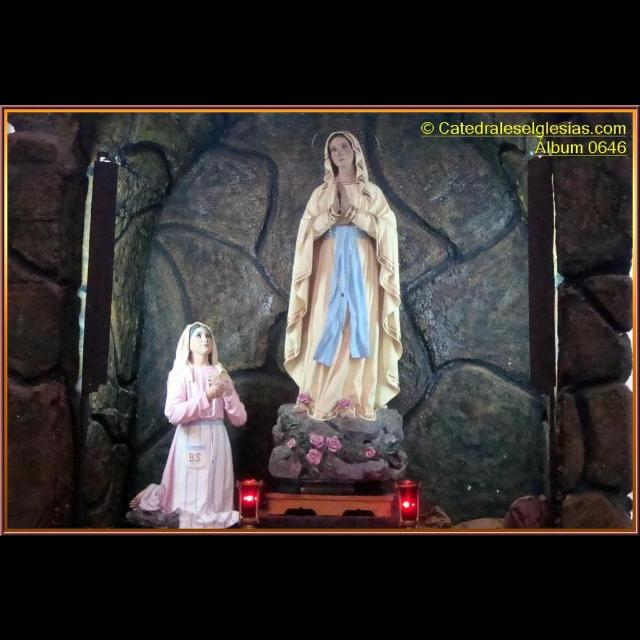Flower: (310, 432, 342, 466), (333, 395, 352, 417), (364, 445, 378, 459), (299, 391, 311, 404), (288, 438, 298, 448)
